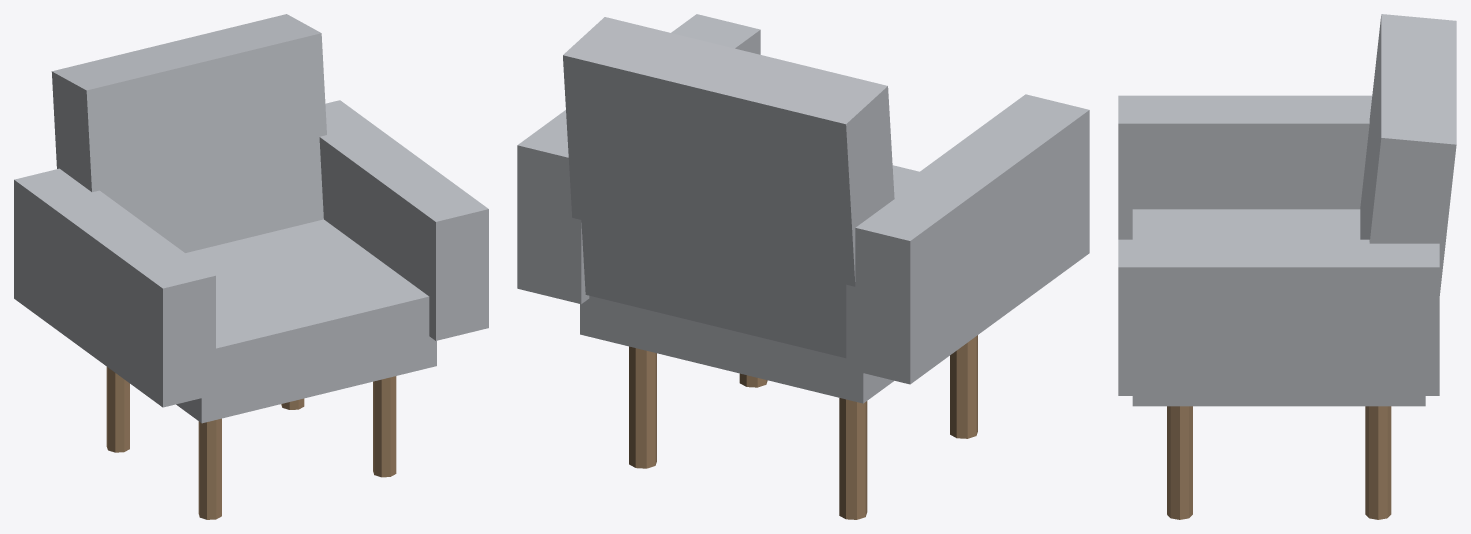
3 views of the same model, side by side, from view 1: azimuth 30°, elevation 25°; view 2: azimuth 150°, elevation 25°; view 3: azimuth 270°, elevation 25° (orthographic). The views are drawn at different scales.
Parts seen in each view (by area): view 1: Back, Seat, Arm.L, Arm.R, Leg.2, Leg.4, Leg.1; view 2: Back, Arm.L, Seat, Arm.R, Leg.1, Leg.3, Leg.2; view 3: Arm.R, Arm.L, Back, Seat, Leg.3, Leg.4.
Part boxes in pixels (bbox=[...]): Back: bbox=[51, 14, 326, 252]; Seat: bbox=[176, 219, 436, 423]; Arm.L: bbox=[14, 168, 215, 407]; Arm.R: bbox=[319, 100, 488, 340]; Leg.2: bbox=[198, 418, 221, 519]; Leg.4: bbox=[373, 376, 396, 477]; Leg.1: bbox=[106, 367, 129, 452]; Back: bbox=[563, 17, 894, 358]; Arm.L: bbox=[846, 94, 1089, 384]; Seat: bbox=[580, 165, 919, 403]; Arm.R: bbox=[517, 14, 760, 304]; Leg.1: bbox=[839, 398, 867, 519]; Leg.3: bbox=[629, 346, 656, 468]; Leg.2: bbox=[950, 335, 977, 438]; Arm.R: bbox=[1118, 239, 1439, 395]; Arm.L: bbox=[1118, 95, 1372, 239]; Back: bbox=[1360, 14, 1456, 295]; Seat: bbox=[1132, 209, 1425, 406]; Leg.3: bbox=[1365, 406, 1391, 519]; Leg.4: bbox=[1167, 406, 1192, 519].
Bounding box in the file's own units: 0.86 × 0.9167 × 0.7156.
